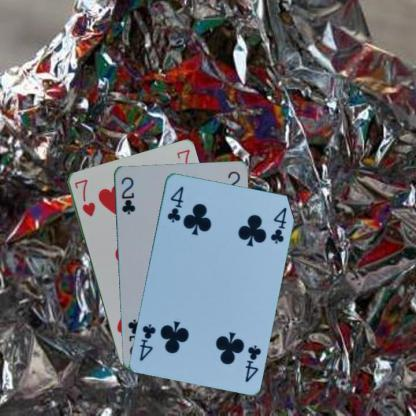2c: (119, 174, 136, 215)
4c: (164, 183, 185, 224), (242, 342, 262, 383)
7h: (72, 176, 96, 218)
